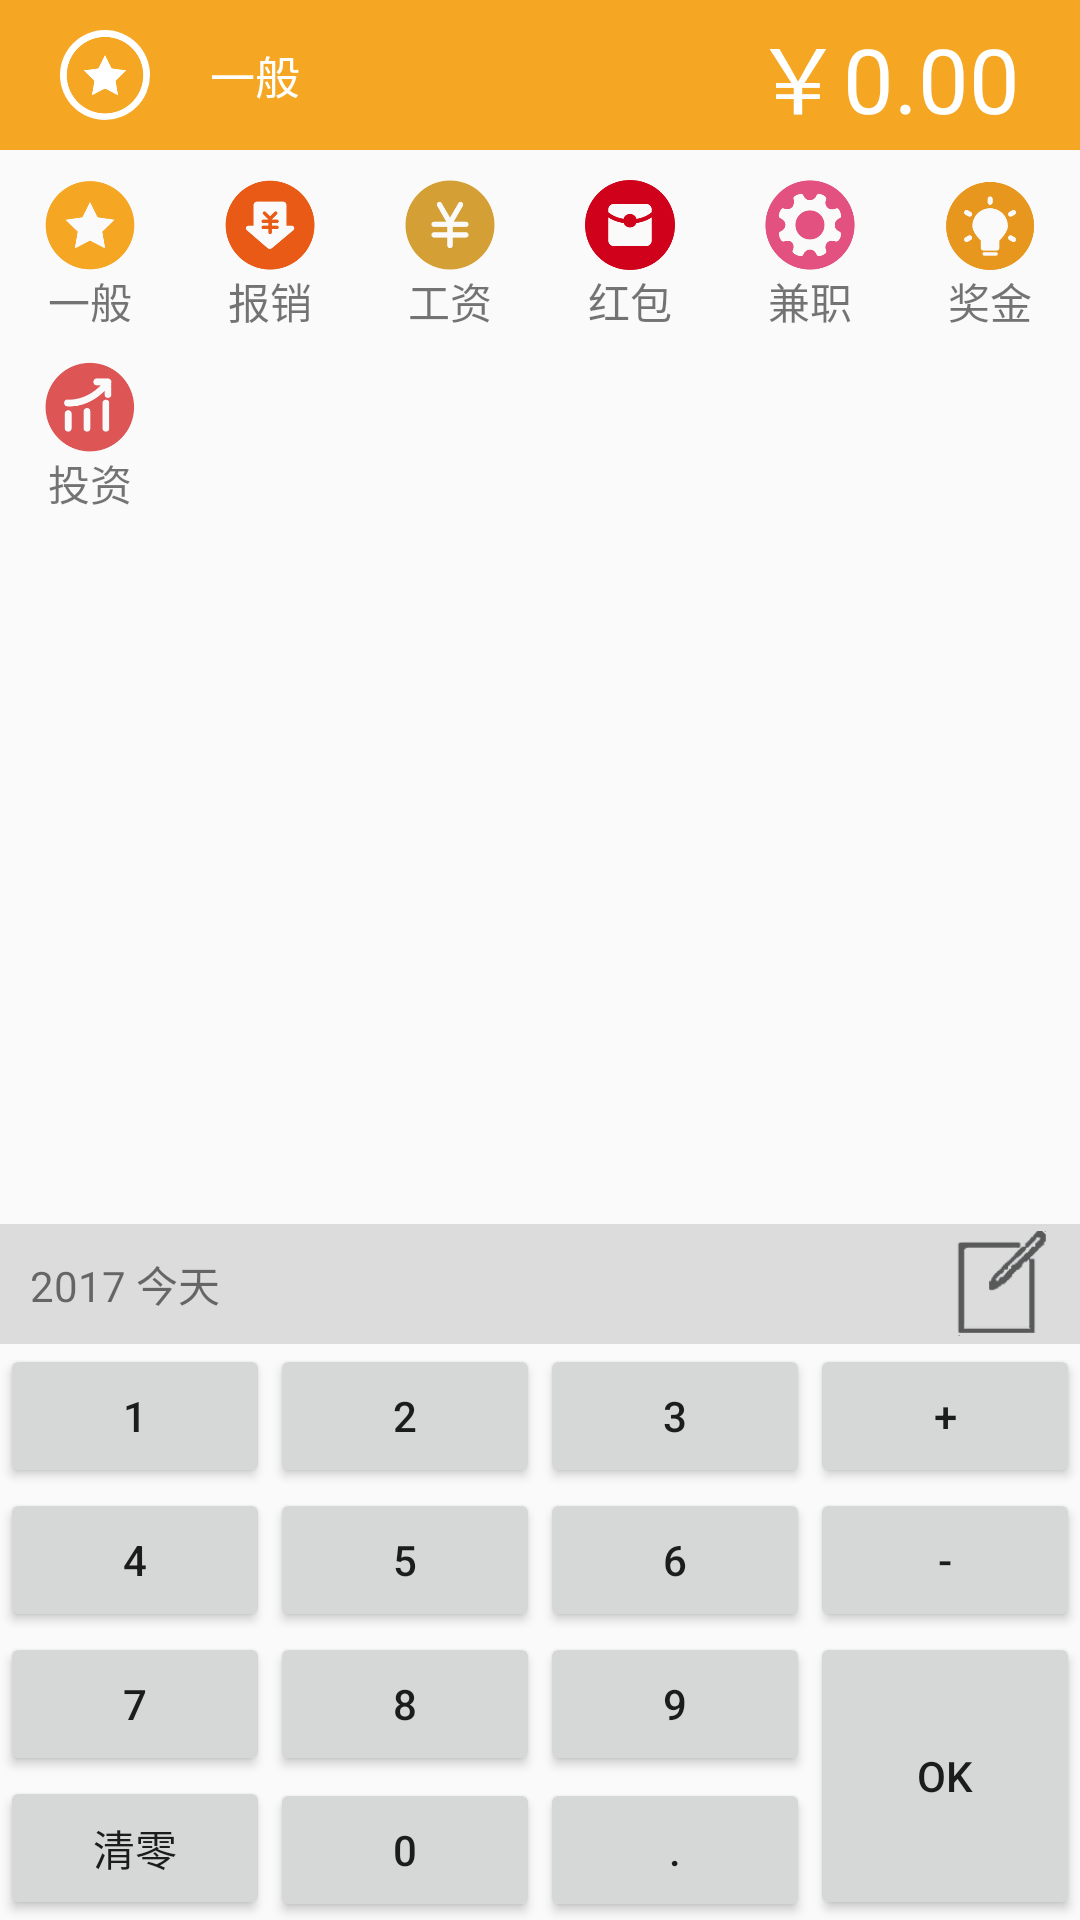

Screen size 1080x1920. Icon name, then its box in pixels as (x1, y1, x2, y2):
remarks: (958, 1231, 1046, 1336)
